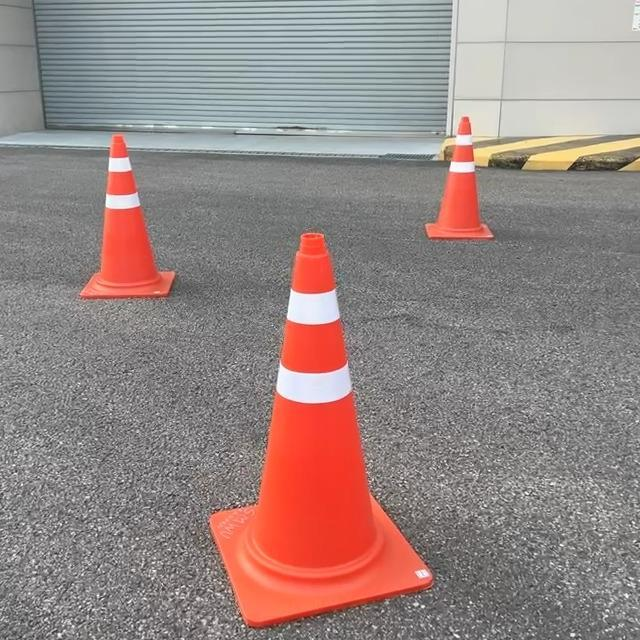fallen_object: (163, 209, 409, 586), (47, 117, 194, 292), (403, 106, 496, 275)
